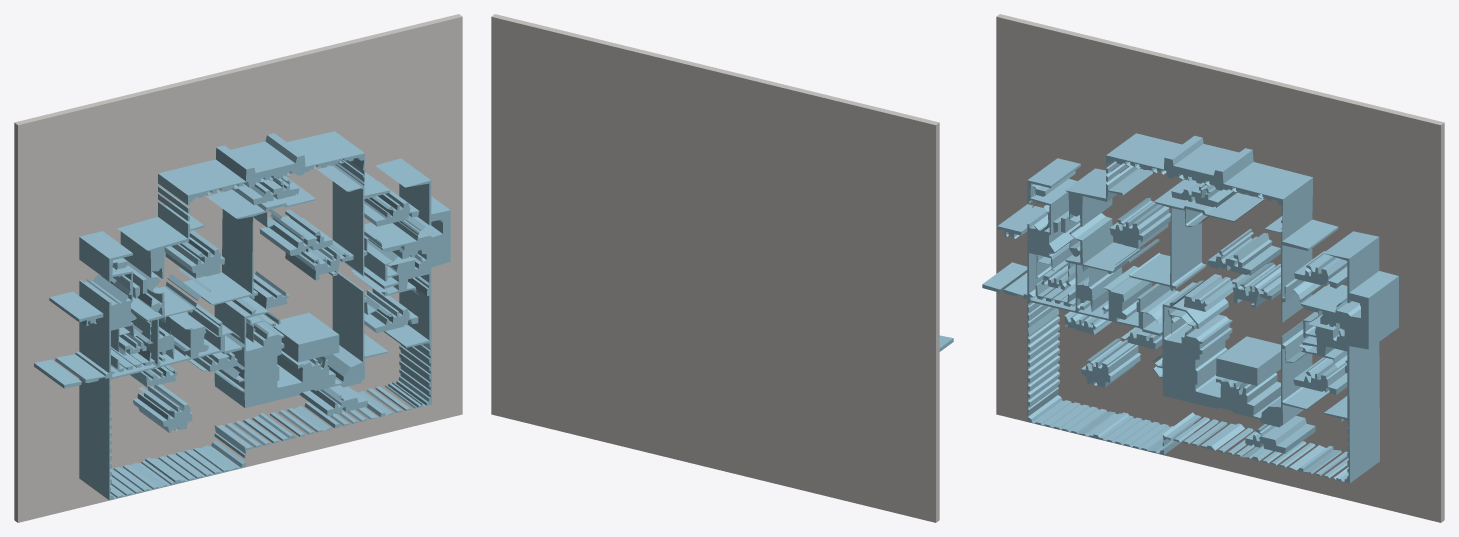
The picture shows the model from 3 angles, left to right: view 1: azimuth 30°, elevation 25°; view 2: azimuth 150°, elevation 25°; view 3: azimuth 330°, elevation 25°; orthographic projection.
Parts seen in each view (by area): view 1: world; view 2: world; view 3: world.
Boxes of the visible parts, <box> form: world: <box>14,14,462,522</box>; world: <box>491,14,953,522</box>; world: <box>982,14,1444,522</box>.
Size of the model in its own units: 10.23 by 8.74 by 1.35.
